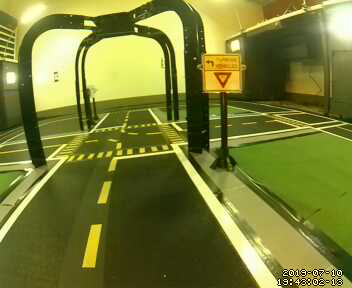Turn Yield: (200, 52, 246, 95)
